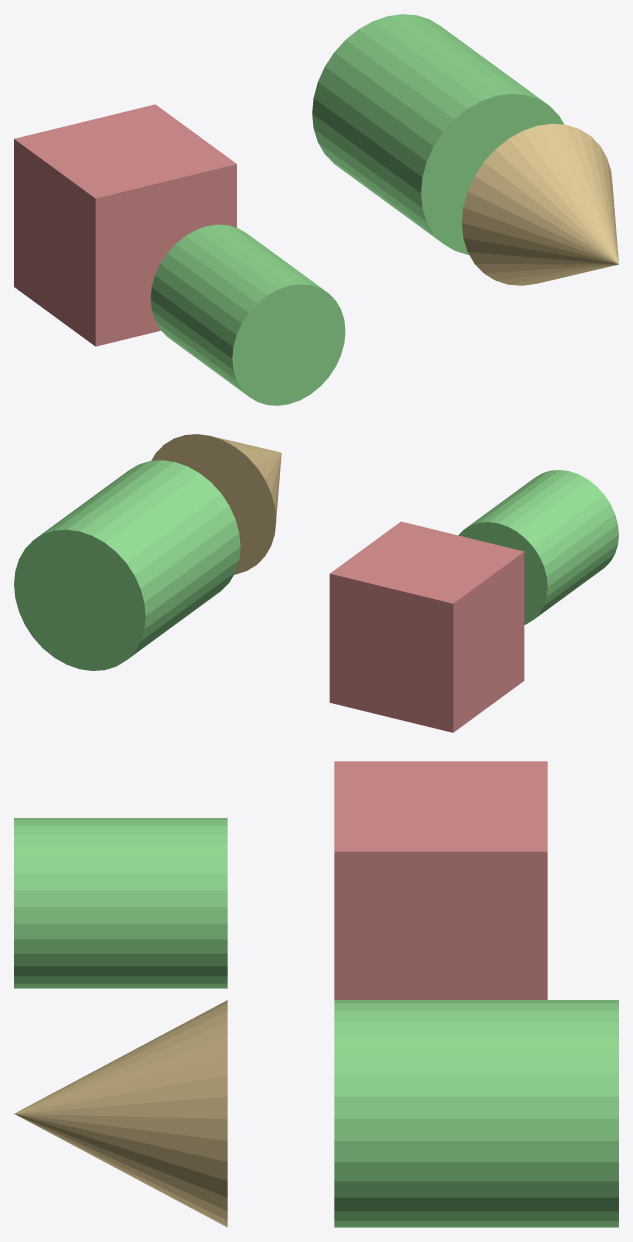
The model's file is composite_solids.glb.
The picture shows the model from 3 angles, top to bottom: view 1: azimuth 30°, elevation 25°; view 2: azimuth 150°, elevation 25°; view 3: azimuth 270°, elevation 25°; orthographic projection. The views are drawn at different scales.
Visible parts, largest first — view 1: world; view 2: world; view 3: world.
Part boxes in pixels (bbox=[...]): world: bbox=[14, 14, 618, 405]; world: bbox=[14, 434, 618, 732]; world: bbox=[14, 761, 618, 1227].
Bounding box in the file's own units: 5.05 × 1.6 × 4.25.
